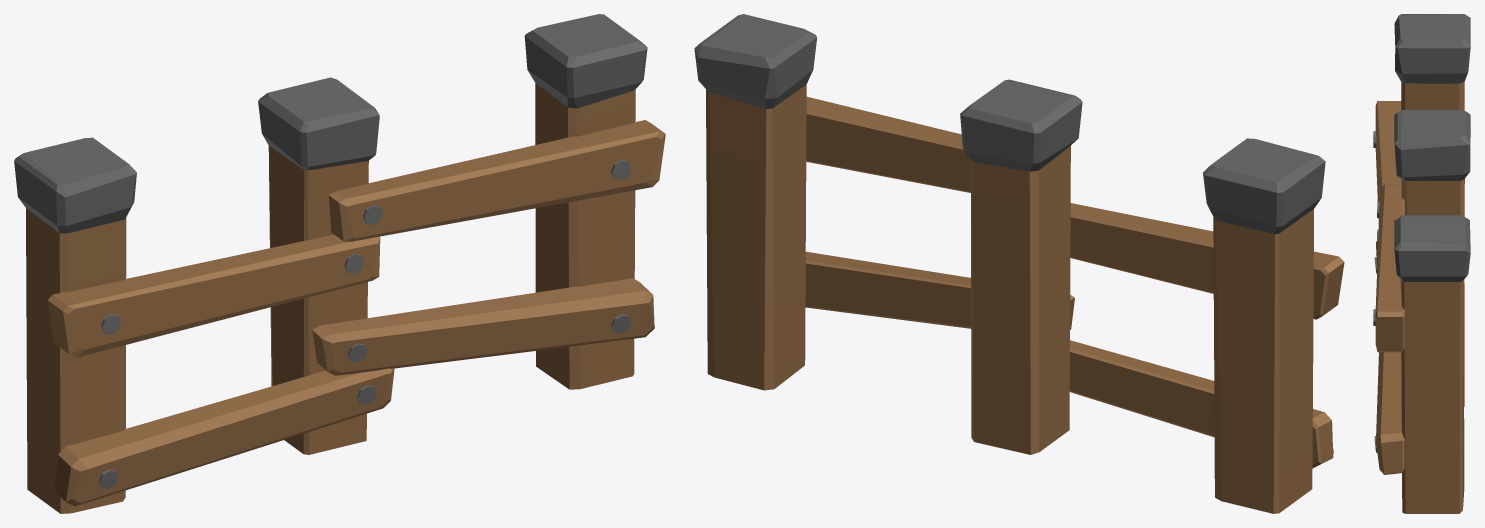
Rendered from Fence_B.fbx.
3 renders of one model, left to right at view 1: azimuth 30°, elevation 25°; view 2: azimuth 150°, elevation 25°; view 3: azimuth 270°, elevation 25°, orthographic. The views are drawn at different scales.
Parts seen in each view (by area): view 1: Fence_B; view 2: Fence_B; view 3: Fence_B.
Part boxes in pixels (<box>): Fence_B: <box>14,14,665,513</box>; Fence_B: <box>694,14,1344,513</box>; Fence_B: <box>1373,14,1470,513</box>.
Bounding box in the file's own units: 224 × 119 × 38.53.
